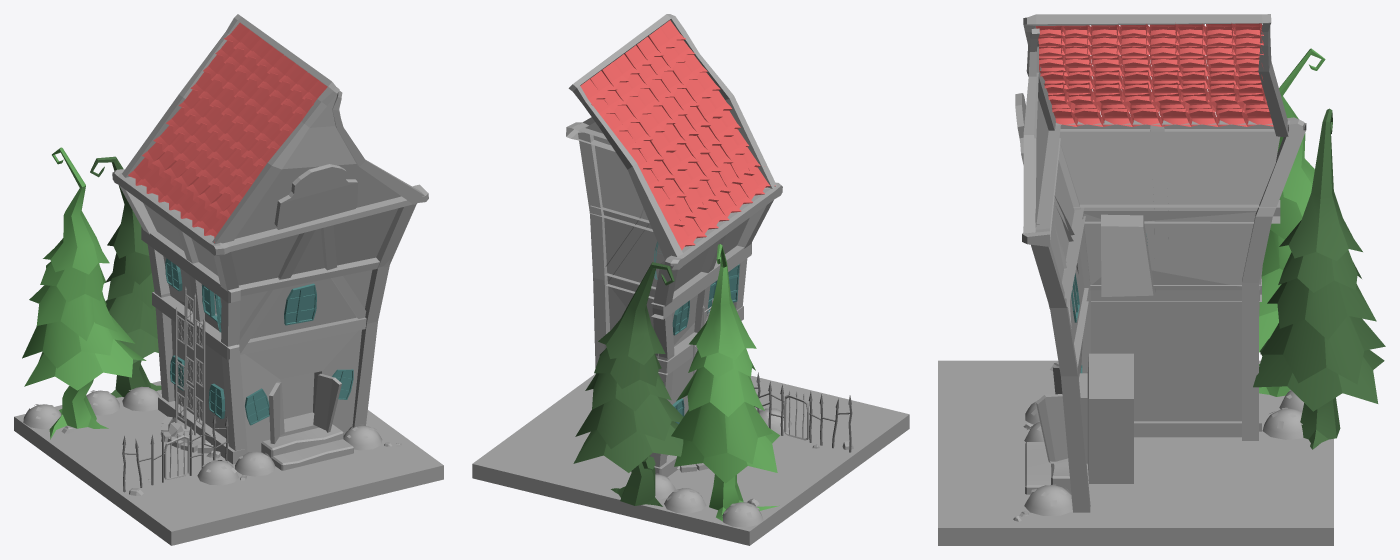
Rendered from taverne_ext.fbx.
The picture shows the model from 3 angles, left to right: view 1: azimuth 30°, elevation 25°; view 2: azimuth 150°, elevation 25°; view 3: azimuth 270°, elevation 25°; orthographic projection. The views are drawn at different scales.
Visible parts, largest first — view 1: taverne, sol3, Tuiles1, sapin4, sapin5, Fenetre, escalier_ext2, Barriere, treillis_metallique_lierre, Potager, Buisson2, treillis_metallique_lierre3 (+7 smaller); view 2: sol3, taverne, Tuiles1, sapin4, sapin5, Barriere, Fenetre, Buisson7, Buisson5, Portail; view 3: taverne, sol3, Tuiles1, sapin5, sapin4, escalier_ext2, Buisson3, Buisson4.
Part boxes in pixels (bbox=[...]): taverne: bbox=[112, 14, 428, 464]; sol3: bbox=[14, 381, 443, 545]; Tuiles1: bbox=[128, 22, 327, 242]; sapin4: bbox=[22, 147, 146, 439]; sapin5: bbox=[90, 156, 161, 397]; Fenetre: bbox=[165, 258, 353, 425]; escalier_ext2: bbox=[261, 424, 353, 470]; Barriere: bbox=[122, 413, 228, 492]; treillis_metallique_lierre: bbox=[184, 287, 195, 435]; Potager: bbox=[160, 416, 213, 453]; Buisson2: bbox=[197, 460, 238, 485]; treillis_metallique_lierre3: bbox=[175, 307, 184, 422]; sol3: bbox=[472, 374, 909, 545]; taverne: bbox=[566, 14, 782, 477]; Tuiles1: bbox=[580, 20, 775, 250]; sapin4: bbox=[671, 244, 779, 521]; sapin5: bbox=[573, 262, 683, 506]; Barriere: bbox=[754, 372, 852, 452]; Fenetre: bbox=[654, 241, 739, 423]; Buisson7: bbox=[722, 502, 763, 527]; Buisson5: bbox=[664, 488, 706, 513]; Portail: bbox=[784, 391, 809, 440]; taverne: bbox=[1015, 14, 1306, 512]; sol3: bbox=[938, 360, 1333, 545]; Tuiles1: bbox=[1035, 23, 1273, 126]; sapin5: bbox=[1253, 108, 1385, 449]; sapin4: bbox=[1259, 48, 1325, 396]; escalier_ext2: bbox=[1025, 442, 1071, 494]; Buisson3: bbox=[1024, 484, 1072, 515]; Buisson4: bbox=[1262, 407, 1303, 439].
Bounding box in the file's own units: 887 × 1086 × 905.
